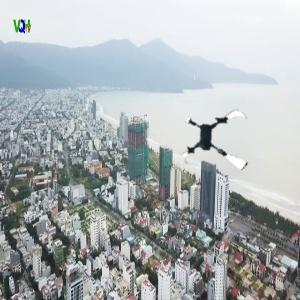drone: (182, 104, 257, 179)
